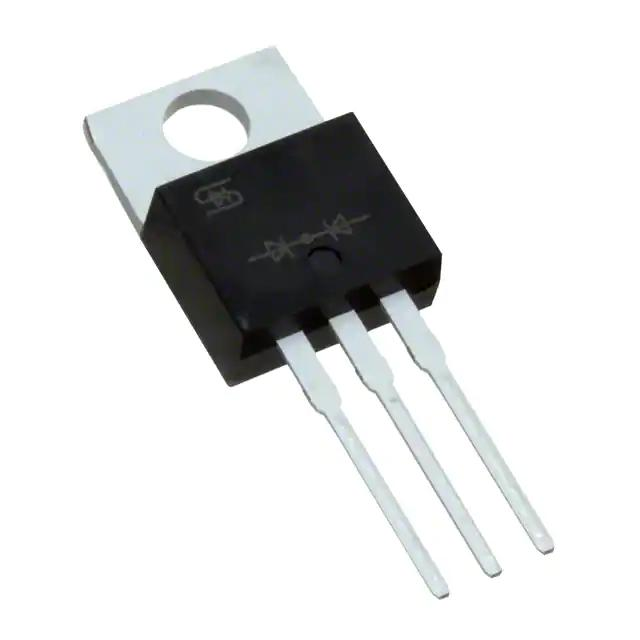Transistor: (88, 55, 550, 596)
